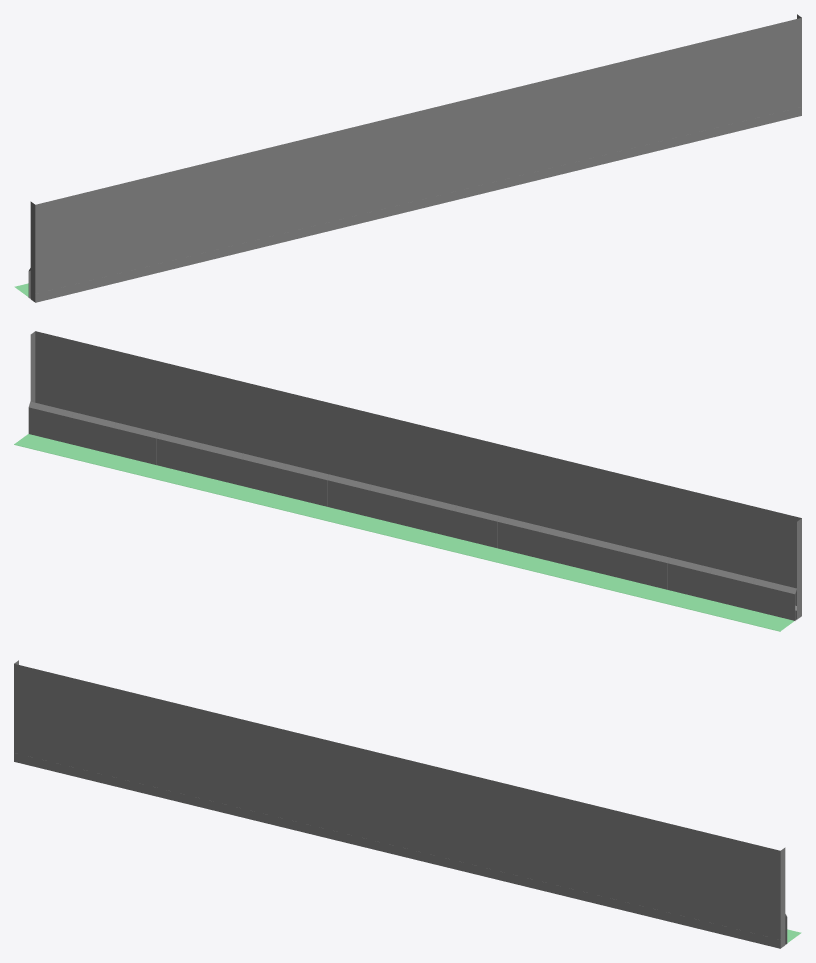
The picture shows the model from 3 angles, top to bottom: view 1: azimuth 30°, elevation 25°; view 2: azimuth 150°, elevation 25°; view 3: azimuth 330°, elevation 25°; orthographic projection.
Visible parts, largest first — view 1: RT+ V02 T01 COLL, RT+ V02 T01 RubW; view 2: RT+ V02 T01 COLL, RT+ V02 T01 Fence Shared, RT+ V02 T01 SR, RT+ V02 T01 Fence HI; view 3: RT+ V02 T01 COLL, RT+ V02 T01 RubW.
Boxes of the visible parts, x1,y1,x2,y2 form: RT+ V02 T01 COLL: (30,14,801,302); RT+ V02 T01 RubW: (35,107,801,302); RT+ V02 T01 COLL: (30,331,801,619); RT+ V02 T01 Fence Shared: (29,401,796,620); RT+ V02 T01 SR: (14,434,794,631); RT+ V02 T01 Fence HI: (28,401,796,620); RT+ V02 T01 COLL: (14,660,785,948); RT+ V02 T01 RubW: (14,753,780,948).
Bounding box in the file's own units: 90 × 11 × 4.37.
